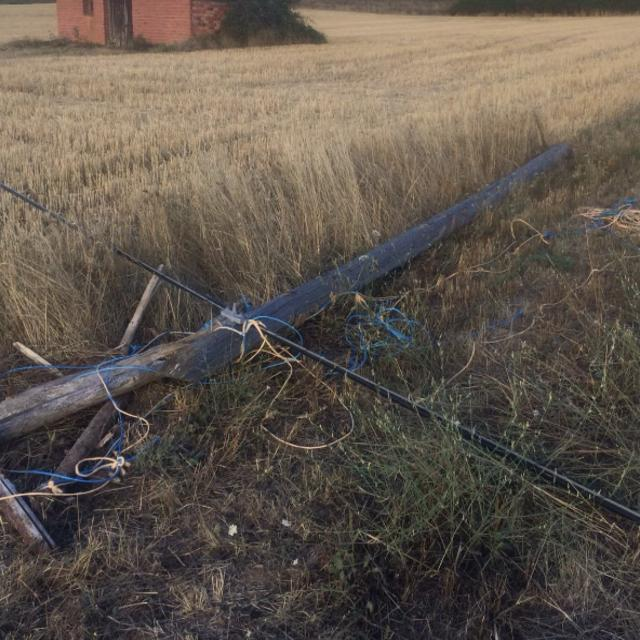Inclined Pole: (0, 136, 581, 553)
